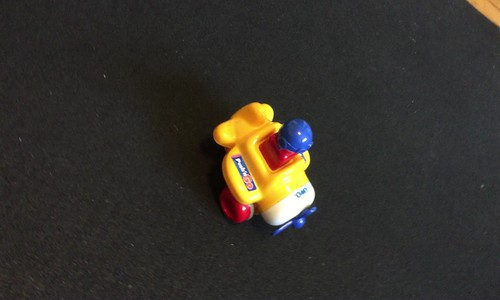toy: (207, 96, 321, 235)
